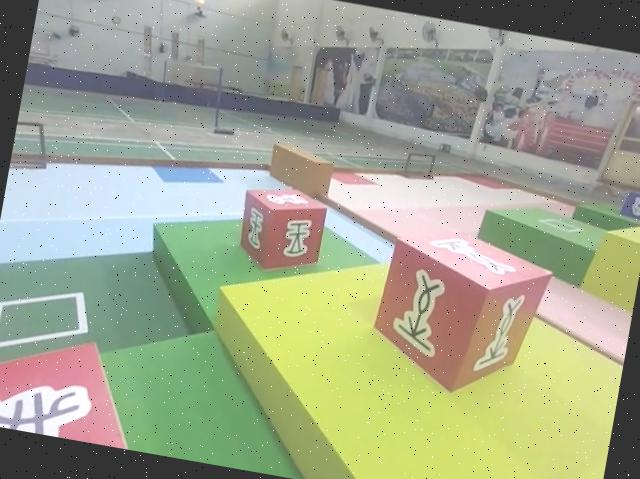R2 Fake: (0, 313, 150, 449)
R2 Real: (359, 215, 557, 407), (230, 175, 329, 277)
